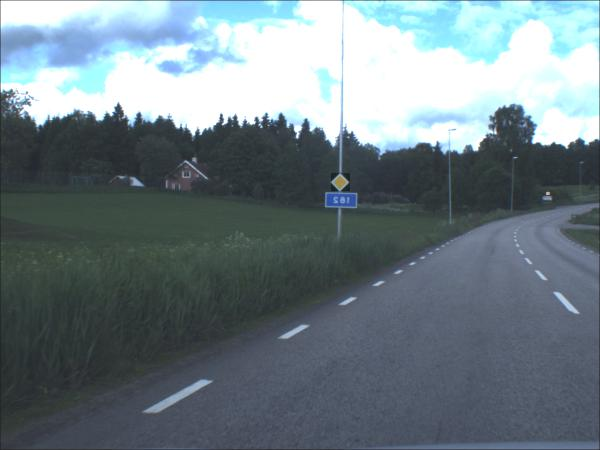80_SIGN: (546, 193, 551, 197)
PRIORITY_ROAD: (331, 174, 351, 193)
